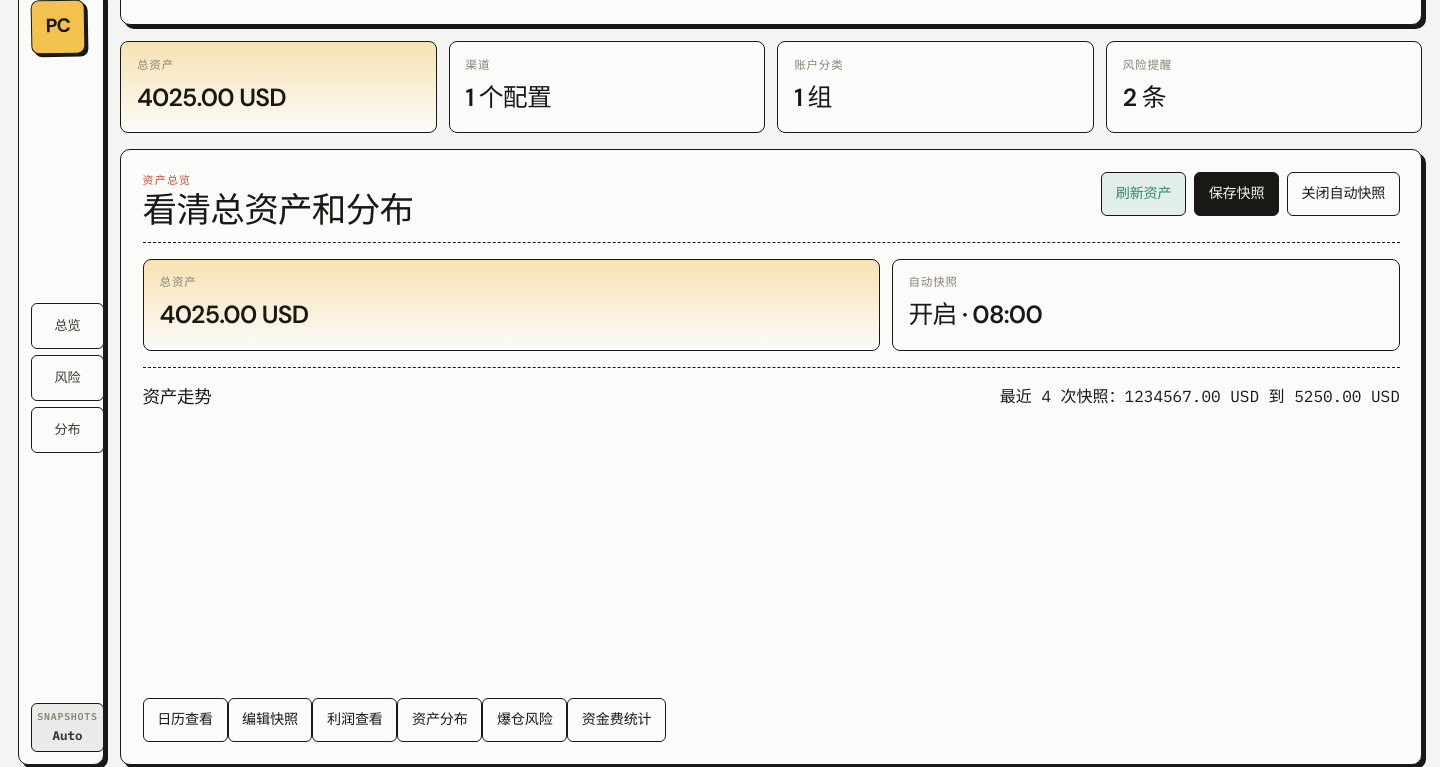
Test: shows integer asset values directly inside calendar days
(page scrolled)
Expected: the text "4025.00 USD" next to "1 个配置" is shown, [137, 80, 286, 114]
Click the button "日历查看" at (185, 720), box [143, 698, 228, 742]
(page scrolled)
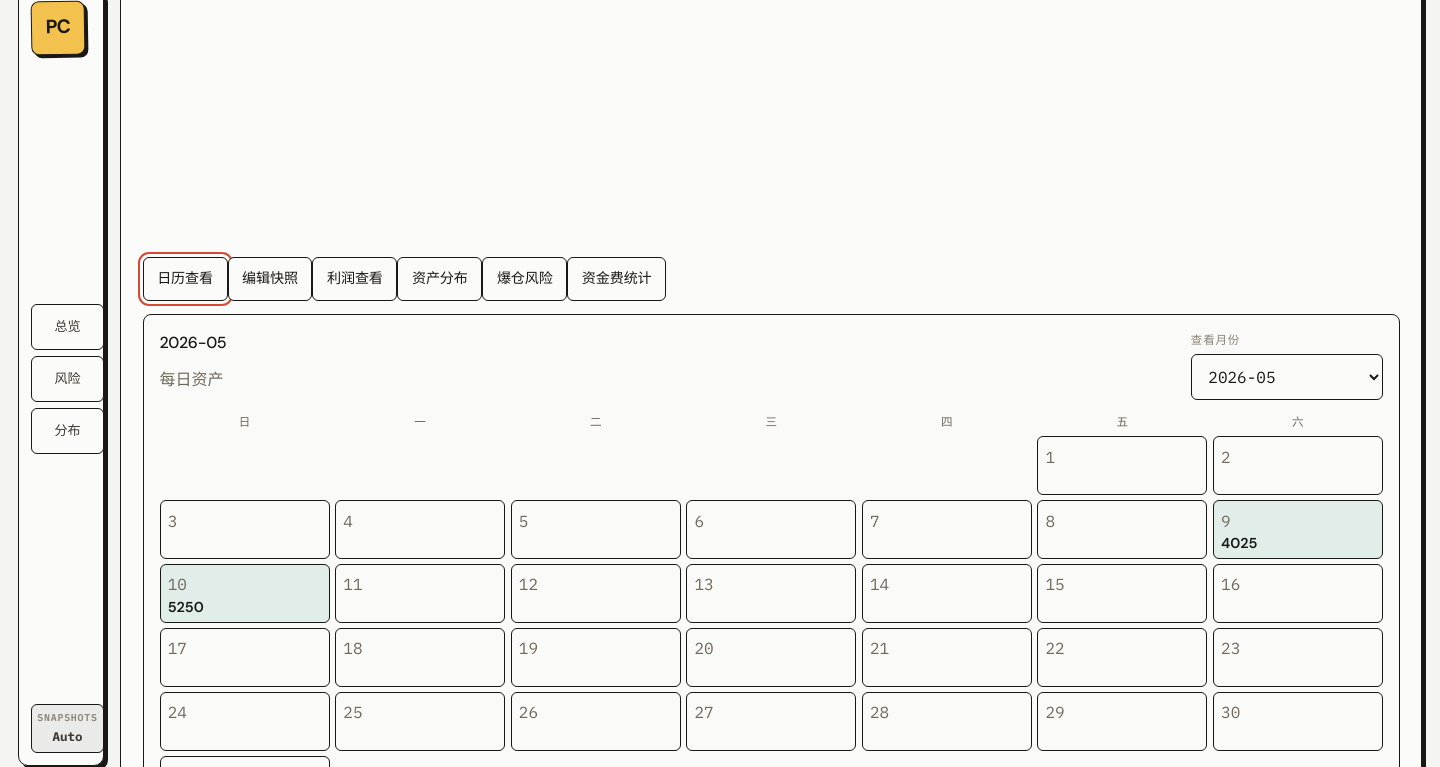
Expected: the heading "2026-05" is shown, [160, 331, 226, 355]
Expected: the cell named "2026-05-09 资产 4025" is shown, [1213, 500, 1383, 559]
Expected: the cell named "2026-05-10 资产 5250" is shown, [160, 564, 330, 623]
Select "2026-04" in the dropdown labelled "查看月份" at (1287, 377), box [1191, 354, 1383, 400]
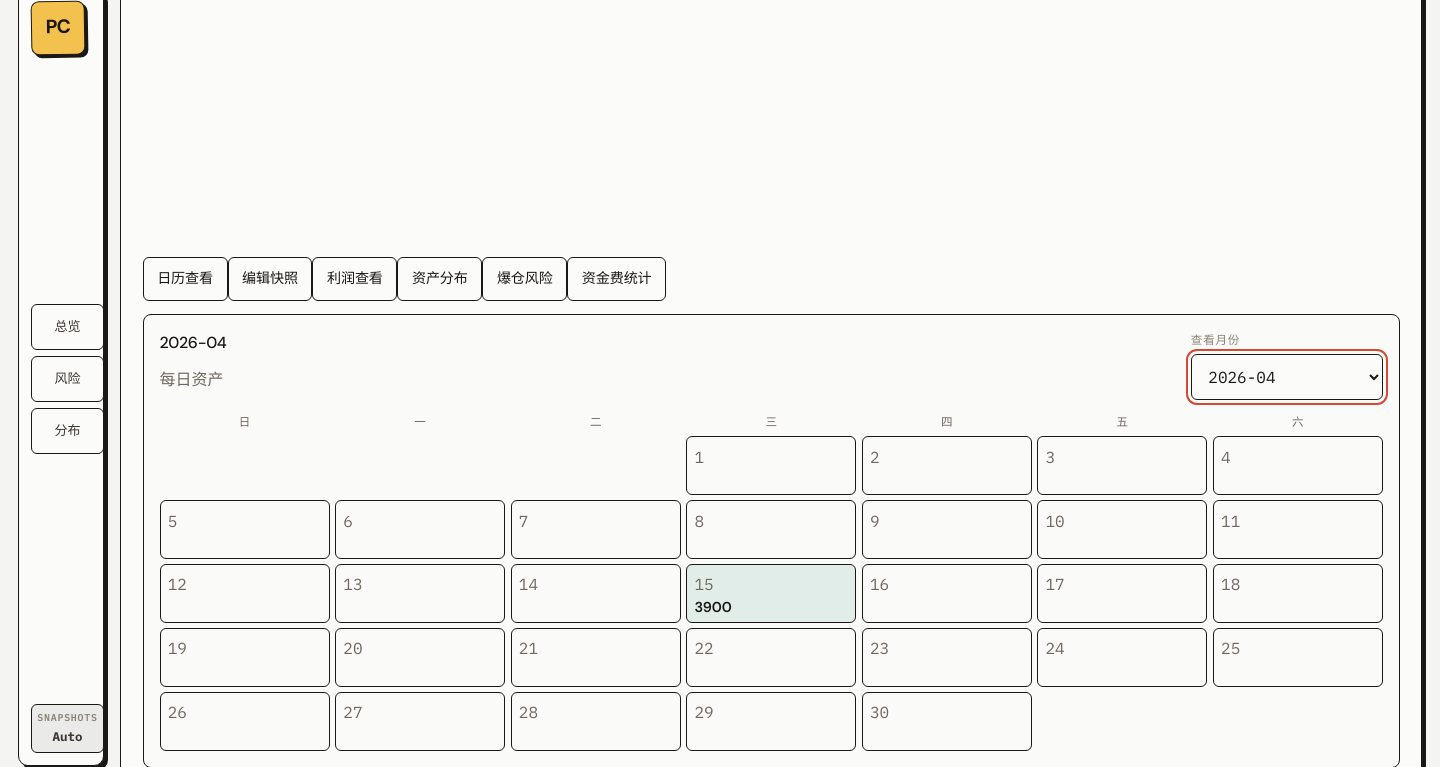
Expected: the cell named "2026-04-15 资产 3900" is shown, [686, 564, 856, 623]
Expected: the text "3900" is shown, [694, 598, 732, 616]
Select "2026-03" in the dropdown labelled "查看月份" at (1287, 377), box [1191, 354, 1383, 400]
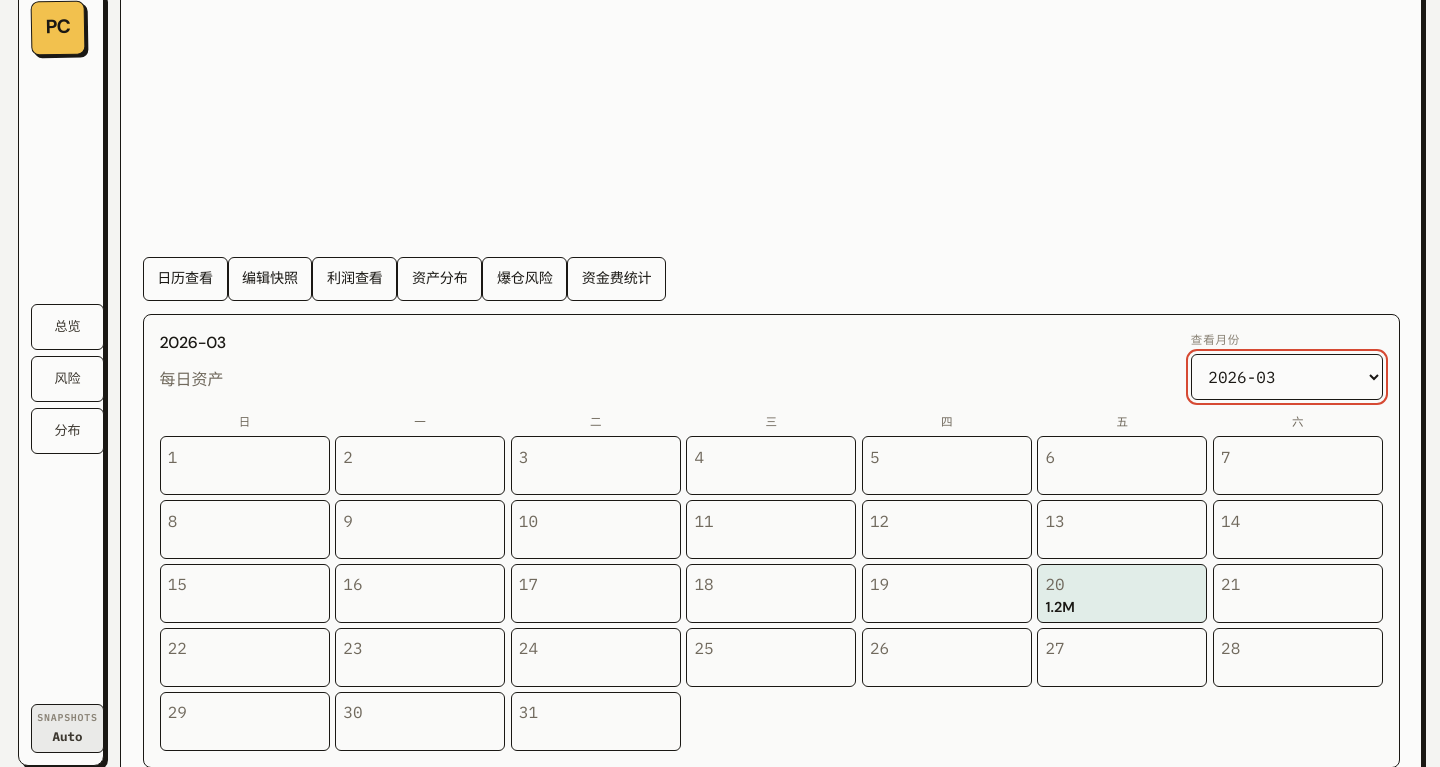
Expected: the table named "2026-03" is shown, [160, 414, 1383, 751]
Expected: the cell named "2026-03-20 资产 1234567" is shown, [1037, 564, 1207, 623]
Expected: the text "1.2M" is shown, [1046, 598, 1075, 616]
